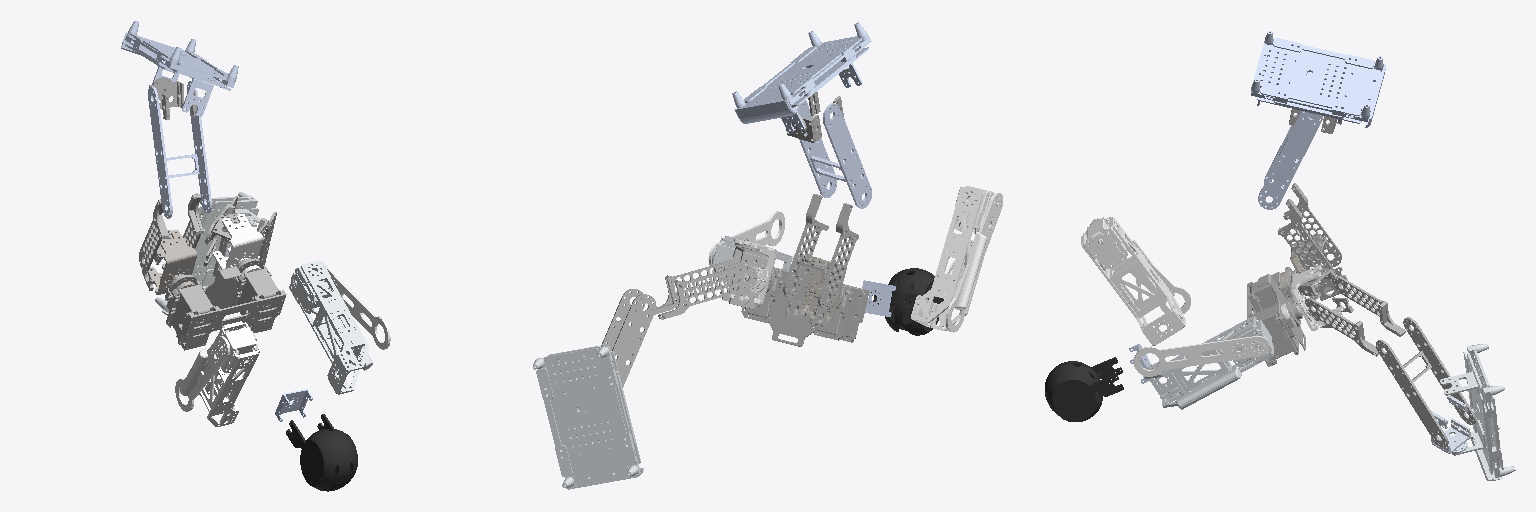
--- Facts derived from the render (not from the file) ---
The picture shows the robot from 3 angles, left to right: view 1: azimuth 30°, elevation 25°; view 2: azimuth 150°, elevation 25°; view 3: azimuth 270°, elevation 25°; orthographic projection.
Model dancer_urdf_model with 22 links and 21 joints (19 continuous, 2 fixed), rooted at world_link, posed every joint at zero.
Visible links, largest first — view 1: body_hip, arm_right, arm_left, leg4_left, body_head2, leg2_left, leg4_right, leg_left, body_hip_left, body_hip_right, hand_right, hand_left (+3 smaller); view 2: leg4_right, leg4_left, arm_left, body_hip, leg2_left, leg_left, leg_right, leg2_right, body_head2, hand_left, body_hip_left, body_hip2_right (+6 smaller); view 3: leg4_left, arm_left, arm_right, leg4_right, body_head2, body_hip, leg2_right, leg2_left, hand_right, leg_right, leg_left, leg3_right (+4 smaller).
Boxes of the visible links, x1,y1,x2,y2 form: body_hip: (165, 258, 286, 350); arm_right: (289, 260, 372, 394); arm_left: (180, 321, 260, 426); leg4_left: (121, 21, 238, 116); body_head2: (286, 414, 357, 491); leg2_left: (148, 81, 211, 218); leg4_right: (155, 192, 267, 315); leg_left: (139, 194, 203, 271); body_hip_left: (150, 230, 196, 294); body_hip_right: (213, 214, 262, 274); hand_right: (325, 265, 390, 349); hand_left: (175, 336, 229, 411); leg4_right: (533, 346, 643, 489); leg4_left: (732, 22, 871, 132); arm_left: (911, 185, 999, 330); body_hip: (741, 254, 868, 346); leg2_left: (796, 100, 871, 208); leg_left: (783, 194, 858, 309); leg_right: (652, 259, 757, 319); leg2_right: (601, 289, 656, 386); body_head2: (869, 268, 943, 335); hand_left: (946, 193, 1002, 332); body_hip_left: (790, 256, 846, 320); body_hip2_right: (722, 243, 768, 309); leg4_left: (1251, 31, 1385, 127); arm_left: (1081, 217, 1185, 345); arm_right: (1143, 316, 1273, 409); leg4_right: (1440, 344, 1515, 480); body_head2: (1045, 357, 1123, 421); body_hip: (1247, 267, 1305, 366); leg2_right: (1376, 317, 1475, 446); leg2_left: (1258, 111, 1322, 209); hand_right: (1134, 336, 1268, 376); leg_right: (1305, 275, 1405, 356); leg_left: (1278, 183, 1341, 285); leg3_right: (1431, 395, 1470, 453).
Size in the robot's own frame: 0.3302 by 0.5789 by 0.5114 metres.
20 mesh visuals loaded from 21 distinct referenced files (20 binary STL); not drawn: 1 (reference not matched to a file when rendering).

The robot description file, URDF, robot "dancer_urdf_model":
<?xml version = "1.0"?>
<robot
  name="dancer_urdf_model">
<!-- root link -->
  <link 
    name="world_link">
  </link>
  <joint 
    name="joint_world" type="fixed">
    <parent link="world_link"/>
    <child link="body_chest"/>
  </joint>
<!-- body -->
  <link
    name="body_chest">
    <inertial>
      <origin
        xyz="-0.39529 -0.25795 -0.0041722"
        rpy="0 0 0" />
      <mass
        value="0.66907" />
      <inertia
        ixx="0.0010789"
        ixy="-2.1492E-06"
        ixz="-1.1578E-06"
        iyy="0.0012519"
        iyz="0.00017837"
        izz="0.0014192" />
    </inertial>
    <visual>
      <origin
        xyz="0 0 0"
        rpy="0 0 0" />
      <geometry>
        <mesh
          filename="package://dancer_urdf_model/meshes/body_chest.STL" />
      </geometry>
      <material
        name="">
        <color
          rgba="0.75294 0.75294 0.75294 1" />
      </material>
    </visual>
    <collision>
      <origin
        xyz="0 0 0"
        rpy="0 0 0" />
      <geometry>
        <mesh
          filename="package://dancer_urdf_model/meshes/body_chest.STL" />
      </geometry>
    </collision>
  </link>
  <link
    name="body_head">
    <inertial>
      <origin
        xyz="-0.000351851554432403 -0.0159432418124996 -6.20136945961303E-09"
        rpy="0 0 0" />
      <mass
        value="0.0560380421735799" />
      <inertia
        ixx="6.80542660516315E-06"
        ixy="2.52790190769969E-07"
        ixz="2.16353945279601E-13"
        iyy="1.50295053154063E-06"
        iyz="1.49161003758429E-12"
        izz="8.30837713670273E-06" />
    </inertial>
    <visual>
      <origin
        xyz="0 0 0"
        rpy="0 0 0" />
      <geometry>
        <mesh
          filename="package://dancer_urdf_model/meshes/body_head.STL" />
      </geometry>
      <material
        name="">
        <color
          rgba="0.866666666666667 0.909803921568627 1 1" />
      </material>
    </visual>
    <collision>
      <origin
        xyz="0 0 0"
        rpy="0 0 0" />
      <geometry>
        <mesh
          filename="package://dancer_urdf_model/meshes/body_head.STL" />
      </geometry>
    </collision>
  </link>
  <joint
    name="joint_body_head"
    type="continuous">
    <origin
      xyz="-0.39482 -0.32209 -0.014452"
      rpy="2.6872 -0.050522 -3.1169" />
    <parent
      link="body_chest" />
    <child
      link="body_head" />
    <axis
      xyz="0 1 0" />
    <dynamics
      damping="0.0"
      friction="0.0" />
  </joint>
  <link
    name="body_head2">
    <inertial>
      <origin
        xyz="-0.020399 -0.025987 -0.047171"
        rpy="0 0 0" />
      <mass
        value="0.067365" />
      <inertia
        ixx="2.0873E-05"
        ixy="2.2756E-10"
        ixz="9.0633E-10"
        iyy="6.1663E-06"
        iyz="-4.8418E-06"
        izz="1.4707E-05" />
    </inertial>
    <visual>
      <origin
        xyz="0 0 0"
        rpy="0 0 0" />
      <geometry>
        <mesh
          filename="package://dancer_urdf_model/meshes/body_head2.STL" />
      </geometry>
      <material
        name="">
        <color
          rgba="0.25098 0.25098 0.25098 1" />
      </material>
    </visual>
    <collision>
      <origin
        xyz="0 0 0"
        rpy="0 0 0" />
      <geometry>
        <mesh
          filename="package://dancer_urdf_model/meshes/body_head2.STL" />
      </geometry>
    </collision>
  </link>
  <joint
    name="joint_body_head2"
    type="continuous">
    <origin
      xyz="0.02015 -0.031182 0"
      rpy="-1.1164 0 0" />
    <parent
      link="body_head" />
    <child
      link="body_head2" />
    <axis
      xyz="-1 0 0" />
    <dynamics
      damping="0.0"
      friction="0.0" />
  </joint>
  <link
    name="arm_left">
    <inertial>
      <origin
        xyz="0.00185814795587239 -0.0815728051955473 0.0294005743652034"
        rpy="0 0 0" />
      <mass
        value="0.142976459032186" />
      <inertia
        ixx="0.000249420588469075"
        ixy="7.32525652321763E-06"
        ixz="7.10318603096419E-06"
        iyy="5.00248806790026E-05"
        iyz="-1.63332458191431E-05"
        izz="0.000260415991235315" />
    </inertial>
    <visual>
      <origin
        xyz="0 0 0"
        rpy="0 0 0" />
      <geometry>
        <mesh
          filename="package://dancer_urdf_model/meshes/arm_left.STL" />
      </geometry>
      <material
        name="">
        <color
          rgba="1 1 1 1" />
      </material>
    </visual>
    <collision>
      <origin
        xyz="0 0 0"
        rpy="0 0 0" />
      <geometry>
        <mesh
          filename="package://dancer_urdf_model/meshes/arm_left.STL" />
      </geometry>
    </collision>
  </link>
  <joint
    name="joint_arm_left"
    type="continuous">
    <origin
      xyz="-0.46902 -0.2921 0.00017561"
      rpy="-1.5708 -0.59813 1.5708" />
    <parent
      link="body_chest" />
    <child
      link="arm_left" />
    <axis
      xyz="0 0 1" />
    <dynamics
      damping="0.0"
      friction="0.0" />
  </joint>
  <link
    name="hand_left">
    <inertial>
      <origin
        xyz="-0.00150000000000006 0.0513998176588075 -0.0471166731147821"
        rpy="0 0 0" />
      <mass
        value="0.021948273112724" />
      <inertia
        ixx="0"
        ixy="0"
        ixz="0"
        iyy="0"
        iyz="0"
        izz="0" />
    </inertial>
    <visual>
      <origin
        xyz="0 0 0"
        rpy="0 0 0" />
      <geometry>
        <mesh
          filename="package://dancer_urdf_model/meshes/hand_left.STL" />
      </geometry>
      <material
        name="">
        <color
          rgba="1 1 1 1" />
      </material>
    </visual>
    <collision>
      <origin
        xyz="0 0 0"
        rpy="0 0 0" />
      <geometry>
        <mesh
          filename="package://dancer_urdf_model/meshes/hand_left.STL" />
      </geometry>
    </collision>
  </link>
  <joint
    name="joint_hand_left"
    type="continuous">
    <origin
      xyz="0 -0.136 0.05255"
      rpy="0.59813 -1.5708 0" />
    <parent
      link="arm_left" />
    <child
      link="hand_left" />
    <axis
      xyz="1 0 0" />
    <dynamics
      damping="0.0"
      friction="0.0" />
  </joint>
  <link
    name="arm_right">
    <inertial>
      <origin
        xyz="0.00187545595097149 -0.0810657497418857 0.0317817660201292"
        rpy="0 0 0" />
      <mass
        value="0.141656759847187" />
      <inertia
        ixx="0.000244964545549609"
        ixy="7.19058779167484E-06"
        ixz="-7.15162953626525E-06"
        iyy="4.95100328023302E-05"
        iyz="1.49143124694347E-05"
        izz="0.000256465619549068" />
    </inertial>
    <visual>
      <origin
        xyz="0 0 0"
        rpy="0 0 0" />
      <geometry>
        <mesh
          filename="package://dancer_urdf_model/meshes/arm_right.STL" />
      </geometry>
      <material
        name="">
        <color
          rgba="0.898039215686275 0.917647058823529 0.929411764705882 1" />
      </material>
    </visual>
    <collision>
      <origin
        xyz="0 0 0"
        rpy="0 0 0" />
      <geometry>
        <mesh
          filename="package://dancer_urdf_model/meshes/arm_right.STL" />
      </geometry>
    </collision>
  </link>
  <joint
    name="joint_arm_right"
    type="continuous">
    <origin
      xyz="-0.25942 -0.2921 0.00017561"
      rpy="-1.5708 1.0373 1.5708" />
    <parent
      link="body_chest" />
    <child
      link="arm_right" />
    <axis
      xyz="0 0 1" />
    <dynamics
      damping="0.0"
      friction="0.0" />
  </joint>
  <link
    name="hand_right">
    <inertial>
      <origin
        xyz="-0.00150000000000061 -0.0550818675496146 -0.0427540642279834"
        rpy="0 0 0" />
      <mass
        value="0.021948273112724" />
      <inertia
        ixx="0"
        ixy="0"
        ixz="0"
        iyy="0"
        iyz="0"
        izz="0" />
    </inertial>
    <visual>
      <origin
        xyz="0 0 0"
        rpy="0 0 0" />
      <geometry>
        <mesh
          filename="package://dancer_urdf_model/meshes/hand_right.STL" />
      </geometry>
      <material
        name="">
        <color
          rgba="1 1 1 1" />
      </material>
    </visual>
    <collision>
      <origin
        xyz="0 0 0"
        rpy="0 0 0" />
      <geometry>
        <mesh
          filename="package://dancer_urdf_model/meshes/hand_right.STL" />
      </geometry>
    </collision>
  </link>
  <joint
    name="joint_hand_right"
    type="continuous">
    <origin
      xyz="0 -0.136 0.00845"
      rpy="2.1043 1.5708 0" />
    <parent
      link="arm_right" />
    <child
      link="hand_right" />
    <axis
      xyz="1 0 0" />
    <dynamics
      damping="0.0"
      friction="0.0" />
  </joint>
  <link
    name="body_hip">
    <inertial>
      <origin
        xyz="0.000157245394557526 0.0183365350270815 0.0512514015755213"
        rpy="0 0 0" />
      <mass
        value="0.220741166410594" />
      <inertia
        ixx="4.99532905906753E-05"
        ixy="-8.8425558025927E-07"
        ixz="4.63751185231834E-07"
        iyy="0.000349635027414184"
        iyz="-8.11153973374568E-06"
        izz="0.000393338670951652" />
    </inertial>
    <visual>
      <origin
        xyz="0 0 0"
        rpy="0 0 0" />
      <geometry>
        <mesh
          filename="package://dancer_urdf_model/meshes/body_hip.STL" />
      </geometry>
      <material
        name="">
        <color
          rgba="0.752941176470588 0.752941176470588 0.752941176470588 1" />
      </material>
    </visual>
    <collision>
      <origin
        xyz="0 0 0"
        rpy="0 0 0" />
      <geometry>
        <mesh
          filename="package://dancer_urdf_model/meshes/body_hip.STL" />
      </geometry>
    </collision>
  </link>
  <joint
    name="joint_body_hip"
    type="continuous">
    <origin
      xyz="-0.39482 -0.11668 0.01337"
      rpy="-0.45379 0 -3.1416" />
    <parent
      link="body_chest" />
    <child
      link="body_hip" />
    <axis
      xyz="0 1 0" />
    <dynamics
      damping="0.0"
      friction="0.0" />
  </joint>
  <link
    name="body_hip_left">
    <inertial>
      <origin
        xyz="0.020727573256466 0.00401171130451616 -0.000185064805642399"
        rpy="0 0 0" />
      <mass
        value="0.0513468076618724" />
      <inertia
        ixx="5.53880436537222E-07"
        ixy="9.93497455590853E-07"
        ixz="-4.44878455701968E-08"
        iyy="5.30575756787479E-06"
        iyz="-2.18432738949885E-09"
        izz="5.33896357399273E-06" />
    </inertial>
    <visual>
      <origin
        xyz="0 0 0"
        rpy="0 0 0" />
      <geometry>
        <mesh
          filename="package://dancer_urdf_model/meshes/body_hip_left.STL" />
      </geometry>
      <material
        name="">
        <color
          rgba="0.776470588235294 0.756862745098039 0.737254901960784 1" />
      </material>
    </visual>
    <collision>
      <origin
        xyz="0 0 0"
        rpy="0 0 0" />
      <geometry>
        <mesh
          filename="package://dancer_urdf_model/meshes/body_hip_left.STL" />
      </geometry>
    </collision>
  </link>
  <joint
    name="joint_body_hip_left"
    type="continuous">
    <origin
      xyz="0.045 -0.0122 0.065"
      rpy="1.5708 0 -1.5708" />
    <parent
      link="body_hip" />
    <child
      link="body_hip_left" />
    <axis
      xyz="-1 0 0" />
    <dynamics
      damping="0.0"
      friction="0.0" />
  </joint>
  <link
    name="body_hip2_left">
    <inertial>
      <origin
        xyz="-0.05214771499803 -0.0126151296156827 0.000799339990500914"
        rpy="0 0 0" />
      <mass
        value="0.178226116015845" />
      <inertia
        ixx="1.31915893268092E-05"
        ixy="1.10728342854583E-05"
        ixz="-3.64501965445685E-07"
        iyy="0.00014636948190844"
        iyz="4.48899648606397E-07"
        izz="0.000142732199426348" />
    </inertial>
    <visual>
      <origin
        xyz="0 0 0"
        rpy="0 0 0" />
      <geometry>
        <mesh
          filename="package://dancer_urdf_model/meshes/body_hip2_left.STL" />
      </geometry>
      <material
        name="">
        <color
          rgba="0.752941176470588 0.752941176470588 0.752941176470588 1" />
      </material>
    </visual>
    <collision>
      <origin
        xyz="0 0 0"
        rpy="0 0 0" />
      <geometry>
        <mesh
          filename="package://dancer_urdf_model/meshes/body_hip2_left.STL" />
      </geometry>
    </collision>
  </link>
  <joint
    name="joint_body_hip2_left"
    type="continuous">
    <origin
      xyz="0.0493 0.033966 -0.0015267"
      rpy="3.0498 0.044917 1.5708" />
    <parent
      link="body_hip_left" />
    <child
      link="body_hip2_left" />
    <axis
      xyz="-1 0 0" />
    <dynamics
      damping="0.0"
      friction="0.0" />
  </joint>
  <link
    name="leg_left">
    <inertial>
      <origin
        xyz="-0.0239762815919513 0.0733271184441349 -0.0492320368464383"
        rpy="0 0 0" />
      <mass
        value="0.117898503490257" />
      <inertia
        ixx="8.19638344105388E-05"
        ixy="4.15735753169954E-07"
        ixz="-3.08942552253119E-07"
        iyy="5.79765950100758E-05"
        iyz="-3.98771822899511E-05"
        izz="7.68071497117597E-05" />
    </inertial>
    <visual>
      <origin
        xyz="0 0 0"
        rpy="0 0 0" />
      <geometry>
        <mesh
          filename="package://dancer_urdf_model/meshes/leg_left.STL" />
      </geometry>
      <material
        name="">
        <color
          rgba="0.752941176470588 0.752941176470588 0.752941176470588 1" />
      </material>
    </visual>
    <collision>
      <origin
        xyz="0 0 0"
        rpy="0 0 0" />
      <geometry>
        <mesh
          filename="package://dancer_urdf_model/meshes/leg_left.STL" />
      </geometry>
    </collision>
  </link>
  <joint
    name="joint_leg_left"
    type="continuous">
    <origin
      xyz="-0.034 0.0013682 0.024061"
      rpy="-2.6864 -1.514 1.5708" />
    <parent
      link="body_hip2_left" />
    <child
      link="leg_left" />
    <axis
      xyz="-1 0 0" />
    <dynamics
      damping="0.0"
      friction="0.0" />
  </joint>
  <link
    name="leg2_left">
    <inertial>
      <origin
        xyz="-0.0235000000000001 0.0561541813174893 0.0270927391440708"
        rpy="0 0 0" />
      <mass
        value="0.0278306854029525" />
      <inertia
        ixx="2.00646228342237E-06"
        ixy="1.74773182168739E-20"
        ixz="-1.11173074327127E-21"
        iyy="1.45608552327633E-05"
        iyz="-5.34162892350515E-08"
        izz="1.65644713873633E-05" />
    </inertial>
    <visual>
      <origin
        xyz="0 0 0"
        rpy="0 0 0" />
      <geometry>
        <mesh
          filename="package://dancer_urdf_model/meshes/leg2_left.STL" />
      </geometry>
      <material
        name="">
        <color
          rgba="0.866666666666667 0.909803921568627 1 1" />
      </material>
    </visual>
    <collision>
      <origin
        xyz="0 0 0"
        rpy="0 0 0" />
      <geometry>
        <mesh
          filename="package://dancer_urdf_model/meshes/leg2_left.STL" />
      </geometry>
    </collision>
  </link>
  <joint
    name="joint_leg2_left"
    type="continuous">
    <origin
      xyz="-0.0006 0.098703 -0.068248"
      rpy="0 0 0" />
    <parent
      link="leg_left" />
    <child
      link="leg2_left" />
    <axis
      xyz="-1 0 0" />
    <dynamics
      damping="0.0"
      friction="0.0" />
  </joint>
  <link
    name="leg3_left">
    <inertial>
      <origin
        xyz="-0.0240177949022405 -0.00952681182363596 -0.0183477774983369"
        rpy="0 0 0" />
      <mass
        value="0.177450614870689" />
      <inertia
        ixx="0.000125001022397629"
        ixy="1.93552642868024E-07"
        ixz="2.77490556714786E-07"
        iyy="0.000127562548065075"
        iyz="-1.29579673929925E-05"
        izz="1.38118491262305E-05" />
    </inertial>
    <visual>
      <origin
        xyz="0 0 0"
        rpy="0 0 0" />
      <geometry>
        <mesh
          filename="package://dancer_urdf_model/meshes/leg3_left.STL" />
      </geometry>
      <material
        name="">
        <color
          rgba="0.752941176470588 0.752941176470588 0.752941176470588 1" />
      </material>
    </visual>
    <collision>
      <origin
        xyz="0 0 0"
        rpy="0 0 0" />
      <geometry>
        <mesh
          filename="package://dancer_urdf_model/meshes/leg3_left.STL" />
      </geometry>
    </collision>
  </link>
  <joint
    name="joint_leg3_left"
    type="continuous">
    <origin
      xyz="0.0006 0.11852 0.05341"
      rpy="0 0 0" />
    <parent
      link="leg2_left" />
    <child
      link="leg3_left" />
    <axis
      xyz="-1 0 0" />
    <dynamics
      damping="0.0"
      friction="0.0" />
  </joint>
  <link
    name="leg4_left">
    <inertial>
      <origin
        xyz="0.00686471247682141 -0.0384681270411728 0.0369568564087829"
        rpy="0 0 0" />
      <mass
        value="0.13465253780049" />
      <inertia
        ixx="0.000175278373031919"
        ixy="-2.54500802762497E-06"
        ixz="-1.92782216931443E-06"
        iyy="0.00022389365941899"
        iyz="3.30376832465257E-06"
        izz="6.63305590940042E-05" />
    </inertial>
    <visual>
      <origin
        xyz="0 0 0"
        rpy="0 0 0" />
      <geometry>
        <mesh
          filename="package://dancer_urdf_model/meshes/leg4_left.STL" />
      </geometry>
      <material
        name="">
        <color
          rgba="0.866666666666667 0.909803921568627 1 1" />
      </material>
    </visual>
    <collision>
      <origin
        xyz="0 0 0"
        rpy="0 0 0" />
      <geometry>
        <mesh
          filename="package://dancer_urdf_model/meshes/leg4_left.STL" />
      </geometry>
    </collision>
  </link>
  <joint
    name="joint_leg4_left"
    type="continuous">
    <origin
      xyz="-0.0241 -0.0065502 0.035907"
      rpy="-2.9765 -0.0732 0.41369" />
    <parent
      link="leg3_left" />
    <child
      link="leg4_left" />
    <axis
      xyz="0 0 1" />
    <dynamics
      damping="0.0"
      friction="0.0" />
  </joint>
  <link
    name="body_hip_right">
    <inertial>
      <origin
        xyz="0.00360506662341747 0.00176962459685462 0.0179275732564661"
        rpy="0 0 0" />
      <mass
        value="0.0513468076618724" />
      <inertia
        ixx="5.31161382984344E-06"
        ixy="1.28428405213891E-08"
        ixz="8.92145319107081E-07"
        iyy="5.33310731202415E-06"
        iyz="4.39423590928376E-07"
        izz="5.5388043653725E-07" />
    </inertial>
    <visual>
      <origin
        xyz="0 0 0"
        rpy="0 0 0" />
      <geometry>
        <mesh
          filename="package://dancer_urdf_model/meshes/body_hip_right.STL" />
      </geometry>
      <material
        name="">
        <color
          rgba="1 1 1 1" />
      </material>
    </visual>
    <collision>
      <origin
        xyz="0 0 0"
        rpy="0 0 0" />
      <geometry>
        <mesh
          filename="package://dancer_urdf_model/meshes/body_hip_right.STL" />
      </geometry>
    </collision>
  </link>
  <joint
    name="joint_body_hip_right"
    type="continuous">
    <origin
      xyz="-0.045 -0.015 0.065"
      rpy="1.5708 -1.0684 0" />
    <parent
      link="body_hip" />
    <child
      link="body_hip_right" />
    <axis
      xyz="0 0 1" />
    <dynamics
      damping="0.0"
      friction="0.0" />
  </joint>
  <link
    name="body_hip2_right">
    <inertial>
      <origin
        xyz="-0.05274771645541 -0.00922434933235092 0.00864247622548692"
        rpy="0 0 0" />
      <mass
        value="0.178226118022815" />
      <inertia
        ixx="1.31914879715377E-05"
        ixy="8.31106180167271E-06"
        ixz="-7.32576193940501E-06"
        iyy="0.000144456519354766"
        iyz="1.87090627339956E-06"
        izz="0.000144645044815494" />
    </inertial>
    <visual>
      <origin
        xyz="0 0 0"
        rpy="0 0 0" />
      <geometry>
        <mesh
          filename="package://dancer_urdf_model/meshes/body_hip2_right.STL" />
      </geometry>
      <material
        name="">
        <color
          rgba="0.752941176470588 0.752941176470588 0.752941176470588 1" />
      </material>
    </visual>
    <collision>
      <origin
        xyz="0 0 0"
        rpy="0 0 0" />
      <geometry>
        <mesh
          filename="package://dancer_urdf_model/meshes/body_hip2_right.STL" />
      </geometry>
    </collision>
  </link>
  <joint
    name="joint_body_hip2_right"
    type="continuous">
    <origin
      xyz="0.031042 0.015283 0.0465"
      rpy="1.479 0 0.4575" />
    <parent
      link="body_hip_right" />
    <child
      link="body_hip2_right" />
    <axis
      xyz="-1 0 0" />
    <dynamics
      damping="0.0"
      friction="0.0" />
  </joint>
  <link
    name="leg_right">
    <inertial>
      <origin
        xyz="-0.0282237184526358 -0.0161687157017971 -0.0868287422428667"
        rpy="0 0 0" />
      <mass
        value="0.117898502766572" />
      <inertia
        ixx="8.19637542489574E-05"
        ixy="7.03755713098893E-08"
        ixz="5.13184590718679E-07"
        iyy="0.000107449613122845"
        iyz="8.61440649609276E-06"
        izz="2.73340514340446E-05" />
    </inertial>
    <visual>
      <origin
        xyz="0 0 0"
        rpy="0 0 0" />
      <geometry>
        <mesh
          filename="package://dancer_urdf_model/meshes/leg_right.STL" />
      </geometry>
      <material
        name="">
        <color
          rgba="0.752941176470588 0.752941176470588 0.752941176470588 1" />
      </material>
    </visual>
    <collision>
      <origin
        xyz="0 0 0"
        rpy="0 0 0" />
      <geometry>
        <mesh
          filename="package://dancer_urdf_model/meshes/leg_right.STL" />
      </geometry>
    </collision>
  </link>
  <joint
    name="joint_leg_right"
    type="continuous">
    <origin
      xyz="-0.0346 -0.019079 -0.02063"
      rpy="-0.34551 0.82443 -1.5708" />
    <parent
      link="body_hip2_right" />
    <child
      link="leg_right" />
    <axis
      xyz="1 0 0" />
    <dynamics
      damping="0.0"
      friction="0.0" />
  </joint>
  <link
    name="leg2_right">
    <inertial>
      <origin
        xyz="-0.0264999999999997 -0.0557112176708658 -0.0279922992874042"
        rpy="0 0 0" />
      <mass
        value="0.0278306854029525" />
      <inertia
        ixx="2.00646228342255E-06"
        ixy="5.43874561476066E-19"
        ixz="3.11390487234362E-19"
        iyy="1.58713263120878E-05"
        iyz="9.54567899565275E-07"
        izz="1.52540003080386E-05" />
    </inertial>
    <visual>
      <origin
        xyz="0 0 0"
        rpy="0 0 0" />
      <geometry>
        <mesh
          filename="package://dancer_urdf_model/meshes/leg2_right.STL" />
      </geometry>
      <material
        name="">
        <color
          rgba="0.752941176470588 0.752941176470588 0.752941176470588 1" />
      </material>
    </visual>
    <collision>
      <origin
        xyz="0 0 0"
        rpy="0 0 0" />
      <geometry>
        <mesh
          filename="package://dancer_urdf_model/meshes/leg2_right.STL" />
      </geometry>
    </collision>
  </link>
  <joint
    name="joint_leg2_right"
    type="continuous">
    <origin
      xyz="-0.0016 -0.020351 -0.11826"
      rpy="0 0 0" />
    <parent
      link="leg_right" />
    <child
      link="leg2_right" />
    <axis
      xyz="1 0 0" />
    <dynamics
      damping="0.0"
      friction="0.0" />
  </joint>
  <link
    name="leg3_right">
    <inertial>
      <origin
        xyz="-0.0265822088686737 0.0182514148314177 0.00971017334244767"
        rpy="0 0 0" />
      <mass
        value="0.177450615338578" />
      <inertia
        ixx="0.000125000929585061"
        ixy="2.75508514762772E-07"
        ixz="1.96364799986357E-07"
        iyy="1.35635016495756E-05"
        iyz="-1.18157178553736E-05"
        izz="0.000127810804117428" />
    </inertial>
    <visual>
      <origin
        xyz="0 0 0"
        rpy="0 0 0" />
      <geometry>
        <mesh
          filename="package://dancer_urdf_model/meshes/leg3_right.STL" />
      </geometry>
      <material
        name="">
        <color
          rgba="0.882352941176471 0.913725490196078 0.964705882352941 1" />
      </material>
    </visual>
    <collision>
      <origin
        xyz="0 0 0"
        rpy="0 0 0" />
      <geometry>
        <mesh
          filename="package://dancer_urdf_model/meshes/leg3_right.STL" />
      </geometry>
    </collision>
  </link>
  <joint
    name="joint_leg3_right"
    type="continuous">
    <origin
      xyz="0 -0.1146 -0.061382"
      rpy="0 0 0" />
    <parent
      link="leg2_right" />
    <child
      link="leg3_right" />
    <axis
      xyz="1 0 0" />
    <dynamics
      damping="0.0"
      friction="0.0" />
  </joint>
  <link
    name="leg4_right">
    <inertial>
      <origin
        xyz="0.0069030606371967 -0.0385611288608892 0.0368864105375638"
        rpy="0 0 0" />
      <mass
        value="0.133904507779755" />
      <inertia
        ixx="0.0001732330811679"
        ixy="-2.45904194210046E-06"
        ixz="-1.86270409287037E-06"
        iyy="0.000222022543722331"
        iyz="3.10162755525428E-06"
        izz="6.60854883669796E-05" />
    </inertial>
    <visual>
      <origin
        xyz="0 0 0"
        rpy="0 0 0" />
      <geometry>
        <mesh
          filename="package://dancer_urdf_model/meshes/leg4_right.STL" />
      </geometry>
      <material
        name="">
        <color
          rgba="0.898039215686275 0.917647058823529 0.929411764705882 1" />
      </material>
    </visual>
    <collision>
      <origin
        xyz="0 0 0"
        rpy="0 0 0" />
      <geometry>
        <mesh
          filename="package://dancer_urdf_model/meshes/leg4_right.STL" />
      </geometry>
    </collision>
  </link>
  <joint
    name="joint_leg4_right"
    type="continuous">
    <origin
      xyz="-0.0265 -0.035971 0.0061902"
      rpy="1.883 -0.9859 2.8787" />
    <parent
      link="leg3_right" />
    <child
      link="leg4_right" />
    <axis
      xyz="0 0 1" />
    <dynamics
      damping="0.0"
      friction="0.0" />
  </joint>
<!-- camera -->
  <link
    name="body_camera">
    <inertial>
      <origin
        xyz="-0.000405776775139921 -0.0107849933603513 0.0157740430047439"
        rpy="0 -1.5708 0" />
      <mass
        value="0.00912844677087833" />
      <inertia
        ixx="0"
        ixy="0"
        ixz="0"
        iyy="0"
        iyz="0"
        izz="0" />
    </inertial>
    <visual>
      <origin
        xyz="-0.000405776775139921 -0.0107849933603513 0.0157740430047439"
        rpy="0 -1.5708 0" />
      <geometry>
        <mesh
          filename="package://dancer_urdf_model/meshes/body_camera.STL" />
      </geometry>
      <material
        name="">
        <color
          rgba="1 1 1 1" />
      </material>
    </visual>
    <collision>
      <origin
        xyz="-0.000405776775139921 -0.0107849933603513 0.0157740430047439"
        rpy="0 -1.5708 0" />
      <geometry>
        <mesh
          filename="package://dancer_urdf_model/meshes/body_camera.STL" />
      </geometry>
    </collision>
  </link>
  <joint
    name="joint_body_camera"
    type="fixed">
    <origin
      xyz="-0.02015 -0.019786 -0.040504"
      rpy="1.1437 0 0" />
    <parent
      link="body_head2" />
    <child
      link="body_camera" />
    <axis
      xyz="-1 0 0" />
    <dynamics
      damping="0.0"
      friction="0.0" />
  </joint>
<!-- gazebo -->
  <gazebo reference="body_chest">
    <mu1>0.2</mu1>
    <mu2>0.2</mu2>
    <material>Gazebo/Gray</material>
  </gazebo>
  <gazebo reference="body_head">
    <mu1>0.2</mu1>
    <mu2>0.2</mu2>
    <material>Gazebo/Green</material>
  </gazebo>
  <gazebo reference="body_head2">
    <mu1>0.2</mu1>
    <mu2>0.2</mu2>
    <material>Gazebo/Green</material>
  </gazebo>
  <gazebo reference="arm_left">
    <mu1>0.2</mu1>
    <mu2>0.2</mu2>
    <material>Gazebo/Orange</material>
  </gazebo>
  <gazebo reference="hand_left">
    <mu1>0.2</mu1>
    <mu2>0.2</mu2>
    <material>Gazebo/Orange</material>
  </gazebo>
  <gazebo reference="arm_right">
    <mu1>0.2</mu1>
    <mu2>0.2</mu2>
    <material>Gazebo/Orange</material>
  </gazebo>
  <gazebo reference="hand_right">
    <mu1>0.2</mu1>
    <mu2>0.2</mu2>
    <material>Gazebo/Orange</material>
  </gazebo>
  <gazebo reference="body_hip">
    <mu1>0.2</mu1>
    <mu2>0.2</mu2>
    <material>Gazebo/Green</material>
  </gazebo>
  <gazebo reference="body_hip_left">
    <mu1>0.2</mu1>
    <mu2>0.2</mu2>
    <material>Gazebo/Black</material>
  </gazebo>
  <gazebo reference="body_hip2_left">
    <mu1>0.2</mu1>
    <mu2>0.2</mu2>
    <material>Gazebo/Black</material>
  </gazebo>
  <gazebo reference="leg_left">
    <mu1>0.2</mu1>
    <mu2>0.2</mu2>
    <material>Gazebo/Blue</material>
  </gazebo>
  <gazebo reference="leg2_left">
    <mu1>0.2</mu1>
    <mu2>0.2</mu2>
    <material>Gazebo/Blue</material>
  </gazebo>
  <gazebo reference="leg3_left">
    <mu1>0.2</mu1>
    <mu2>0.2</mu2>
    <material>Gazebo/Blue</material>
  </gazebo>
  <gazebo reference="leg4_left">
    <mu1>0.2</mu1>
    <mu2>0.2</mu2>
    <material>Gazebo/Blue</material>
  </gazebo>
  <gazebo reference="body_hip_right">
    <mu1>0.2</mu1>
    <mu2>0.2</mu2>
    <material>Gazebo/Black</material>
  </gazebo>
  <gazebo reference="body_hip2_right">
    <mu1>0.2</mu1>
    <mu2>0.2</mu2>
    <material>Gazebo/Black</material>
  </gazebo>
  <gazebo reference="leg_right">
    <mu1>0.2</mu1>
    <mu2>0.2</mu2>
    <material>Gazebo/Blue</material>
  </gazebo>
  <gazebo reference="leg2_right">
    <mu1>0.2</mu1>
    <mu2>0.2</mu2>
    <material>Gazebo/Blue</material>
  </gazebo>
  <gazebo reference="leg3_right">
    <mu1>0.2</mu1>
    <mu2>0.2</mu2>
     <material>Gazebo/Blue</material>
  </gazebo>
  <gazebo reference="leg4_right">
    <mu1>0.2</mu1>
    <mu2>0.2</mu2>
    <material>Gazebo/Blue</material>
  </gazebo>
  <gazebo reference="body_camera">
    <mu1>0.2</mu1>
    <mu2>0.2</mu2>
    <material>Gazebo/Red</material>
    <sensor type="camera" name="camera1">
      <always_on>1</always_on>
      <updateRate>30.0</updateRate>
      <visualize>true</visualize>
      <camera name="head">
        <horizontal_fov>1.3962634</horizontal_fov>
        <image>
          <width>800</width>
          <height>800</height>
          <format>R8G8B8</format>
        </image>
        <clip>
          <near>0.02</near>
          <far>300</far>
        </clip>
        <noise>
          <type>gaussian</type>
          <!-- Noise is sampled independently per pixel on each frame.
               That pixel's noise value is added to each of its color
               channels, which at that point lie in the range [0,1]. -->
          <mean>0.0</mean>
          <stddev>0.007</stddev>
        </noise>
      </camera>
      <plugin name="camera_controller" filename="libgazebo_ros_camera.so">
        <alwaysOn>true</alwaysOn>
        <updateRate>0.0</updateRate>
        <cameraName>dancer_urdf_model/camera</cameraName>
        <imageTopicName>image_raw</imageTopicName>
        <cameraInfoTopicName>camera_info</cameraInfoTopicName>
        <frameName>camera_link_optical</frameName>
        <hackBaseline>0.0</hackBaseline>
        <distortionK1>0.0</distortionK1>
        <distortionK2>0.0</distortionK2>
        <distortionK3>0.0</distortionK3>
        <distortionT1>0.0</distortionT1>
        <distortionT2>0.0</distortionT2>
        <CxPrime>0</CxPrime>
        <Cx>0.0</Cx>
        <Cy>0.0</Cy>
        <focalLength>0.0</focalLength>
      </plugin>
    </sensor>
  </gazebo>
<!-- transmission -->
  <gazebo>
    <plugin name="gazebo_ros_control" filename="libgazebo_ros_control.so">
      <robotNamespace>/dancer_urdf_model</robotNamespace>
      <robotSimType>gazebo_ros_control/DefaultRobotHWSim</robotSimType>
    </plugin>
  </gazebo>
  <transmission name="trans_body_head">
    <type>transmission_interface/SimpleTransmission</type>
    <joint name="joint_body_head">
      <hardwareInterface>hardware_interface/EffortJointInterface</hardwareInterface>
    </joint>
    <actuator name="motor_body_head">
      <mechanicalReduction>1</mechanicalReduction>
      <hardwareInterface>hardware_interface/EffortJointInterface</hardwareInterface>
    </actuator>
  </transmission>
  <transmission name="trans_body_head2">
    <type>transmission_interface/SimpleTransmission</type>
    <joint name="joint_body_head2">
      <hardwareInterface>hardware_interface/EffortJointInterface</hardwareInterface>
    </joint>
    <actuator name="motor_body_head2">
      <mechanicalReduction>1</mechanicalReduction>
      <hardwareInterface>hardware_interface/EffortJointInterface</hardwareInterface>
    </actuator>
  </transmission>
  <transmission name="trans_arm_left">
    <type>transmission_interface/SimpleTransmission</type>
    <joint name="joint_arm_left">
      <hardwareInterface>hardware_interface/EffortJointInterface</hardwareInterface>
    </joint>
    <actuator name="motor_arm_left">
      <mechanicalReduction>1</mechanicalReduction>
      <hardwareInterface>hardware_interface/EffortJointInterface</hardwareInterface>
    </actuator>
  </transmission>
  <transmission name="trans_hand_left">
    <type>transmission_interface/SimpleTransmission</type>
    <joint name="joint_hand_left">
      <hardwareInterface>hardware_interface/EffortJointInterface</hardwareInterface>
    </joint>
    <actuator name="motor_hand_left">
      <mechanicalReduction>1</mechanicalReduction>
      <hardwareInterface>hardware_interface/EffortJointInterface</hardwareInterface>
    </actuator>
  </transmission>
  <transmission name="trans_arm_right">
    <type>transmission_interface/SimpleTransmission</type>
    <joint name="joint_arm_right">
      <hardwareInterface>hardware_interface/EffortJointInterface</hardwareInterface>
    </joint>
    <actuator name="motor_arm_right">
      <mechanicalReduction>1</mechanicalReduction>
      <hardwareInterface>hardware_interface/EffortJointInterface</hardwareInterface>
    </actuator>
  </transmission>
  <transmission name="trans_hand_right">
    <type>transmission_interface/SimpleTransmission</type>
    <joint name="joint_hand_right">
      <hardwareInterface>hardware_interface/EffortJointInterface</hardwareInterface>
    </joint>
    <actuator name="motor_hand_right">
      <mechanicalReduction>1</mechanicalReduction>
      <hardwareInterface>hardware_interface/EffortJointInterface</hardwareInterface>
    </actuator>
  </transmission>
  <transmission name="trans_body_hip">
    <type>transmission_interface/SimpleTransmission</type>
    <joint name="joint_body_hip">
      <hardwareInterface>hardware_interface/EffortJointInterface</hardwareInterface>
    </joint>
    <actuator name="motor_body_hip">
      <mechanicalReduction>1</mechanicalReduction>
      <hardwareInterface>hardware_interface/EffortJointInterface</hardwareInterface>
    </actuator>
  </transmission>
  <transmission name="trans_body_hip_left">
    <type>transmission_interface/SimpleTransmission</type>
    <joint name="joint_body_hip_left">
      <hardwareInterface>hardware_interface/EffortJointInterface</hardwareInterface>
    </joint>
    <actuator name="motor_body_hip_left">
      <mechanicalReduction>1</mechanicalReduction>
      <hardwareInterface>hardware_interface/EffortJointInterface</hardwareInterface>
    </actuator>
  </transmission>
  <transmission name="trans_body_hip2_left">
    <type>transmission_interface/SimpleTransmission</type>
    <joint name="joint_body_hip2_left">
      <hardwareInterface>hardware_interface/EffortJointInterface</hardwareInterface>
    </joint>
    <actuator name="motor_body_hip2_left">
      <mechanicalReduction>1</mechanicalReduction>
      <hardwareInterface>hardware_interface/EffortJointInterface</hardwareInterface>
    </actuator>
  </transmission>
  <transmission name="trans_leg_left">
    <type>transmission_interface/SimpleTransmission</type>
    <joint name="joint_leg_left">
      <hardwareInterface>hardware_interface/EffortJointInterface</hardwareInterface>
    </joint>
    <actuator name="motor_leg_left">
      <mechanicalReduction>1</mechanicalReduction>
      <hardwareInterface>hardware_interface/EffortJointInterface</hardwareInterface>
    </actuator>
  </transmission>
  <transmission name="trans_leg2_left">
    <type>transmission_interface/SimpleTransmission</type>
    <joint name="joint_leg2_left">
      <hardwareInterface>hardware_interface/EffortJointInterface</hardwareInterface>
    </joint>
    <actuator name="motor_leg2_left">
      <mechanicalReduction>1</mechanicalReduction>
      <hardwareInterface>hardware_interface/EffortJointInterface</hardwareInterface>
    </actuator>
  </transmission>
  <transmission name="trans_leg3_left">
    <type>transmission_interface/SimpleTransmission</type>
    <joint name="joint_leg3_left">
      <hardwareInterface>hardware_interface/EffortJointInterface</hardwareInterface>
    </joint>
    <actuator name="motor_leg3_left">
      <mechanicalReduction>1</mechanicalReduction>
      <hardwareInterface>hardware_interface/EffortJointInterface</hardwareInterface>
    </actuator>
  </transmission>
  <transmission name="trans_leg4_left">
    <type>transmission_interface/SimpleTransmission</type>
    <joint name="joint_leg4_left">
      <hardwareInterface>hardware_interface/EffortJointInterface</hardwareInterface>
    </joint>
    <actuator name="motor_leg4_left">
      <mechanicalReduction>1</mechanicalReduction>
      <hardwareInterface>hardware_interface/EffortJointInterface</hardwareInterface>
    </actuator>
  </transmission>
  <transmission name="trans_body_hip_right">
    <type>transmission_interface/SimpleTransmission</type>
    <joint name="joint_body_hip_right">
      <hardwareInterface>hardware_interface/EffortJointInterface</hardwareInterface>
    </joint>
    <actuator name="motor_body_hip_right">
      <mechanicalReduction>1</mechanicalReduction>
      <hardwareInterface>hardware_interface/EffortJointInterface</hardwareInterface>
    </actuator>
  </transmission>
  <transmission name="trans_body_hip2_right">
    <type>transmission_interface/SimpleTransmission</type>
    <joint name="joint_body_hip2_right">
      <hardwareInterface>hardware_interface/EffortJointInterface</hardwareInterface>
    </joint>
    <actuator name="motor_body_hip2_right">
      <mechanicalReduction>1</mechanicalReduction>
      <hardwareInterface>hardware_interface/EffortJointInterface</hardwareInterface>
    </actuator>
  </transmission>
  <transmission name="trans_leg_right">
    <type>transmission_interface/SimpleTransmission</type>
    <joint name="joint_leg_right">
      <hardwareInterface>hardware_interface/EffortJointInterface</hardwareInterface>
    </joint>
    <actuator name="motor_leg_right">
      <mechanicalReduction>1</mechanicalReduction>
      <hardwareInterface>hardware_interface/EffortJointInterface</hardwareInterface>
    </actuator>
  </transmission>
  <transmission name="trans_leg2_right">
    <type>transmission_interface/SimpleTransmission</type>
    <joint name="joint_leg2_right">
      <hardwareInterface>hardware_interface/EffortJointInterface</hardwareInterface>
    </joint>
    <actuator name="motor_leg2_right">
      <mechanicalReduction>1</mechanicalReduction>
      <hardwareInterface>hardware_interface/EffortJointInterface</hardwareInterface>
    </actuator>
  </transmission>
  <transmission name="trans_leg3_right">
    <type>transmission_interface/SimpleTransmission</type>
    <joint name="joint_leg3_right">
      <hardwareInterface>hardware_interface/EffortJointInterface</hardwareInterface>
    </joint>
    <actuator name="motor_leg3_right">
      <mechanicalReduction>1</mechanicalReduction>
      <hardwareInterface>hardware_interface/EffortJointInterface</hardwareInterface>
    </actuator>
  </transmission>
  <transmission name="trans_leg4_right">
    <type>transmission_interface/SimpleTransmission</type>
    <joint name="joint_leg4_right">
      <hardwareInterface>hardware_interface/EffortJointInterface</hardwareInterface>
    </joint>
    <actuator name="motor_leg4_right">
      <mechanicalReduction>1</mechanicalReduction>
      <hardwareInterface>hardware_interface/EffortJointInterface</hardwareInterface>
    </actuator>
  </transmission>
</robot>
